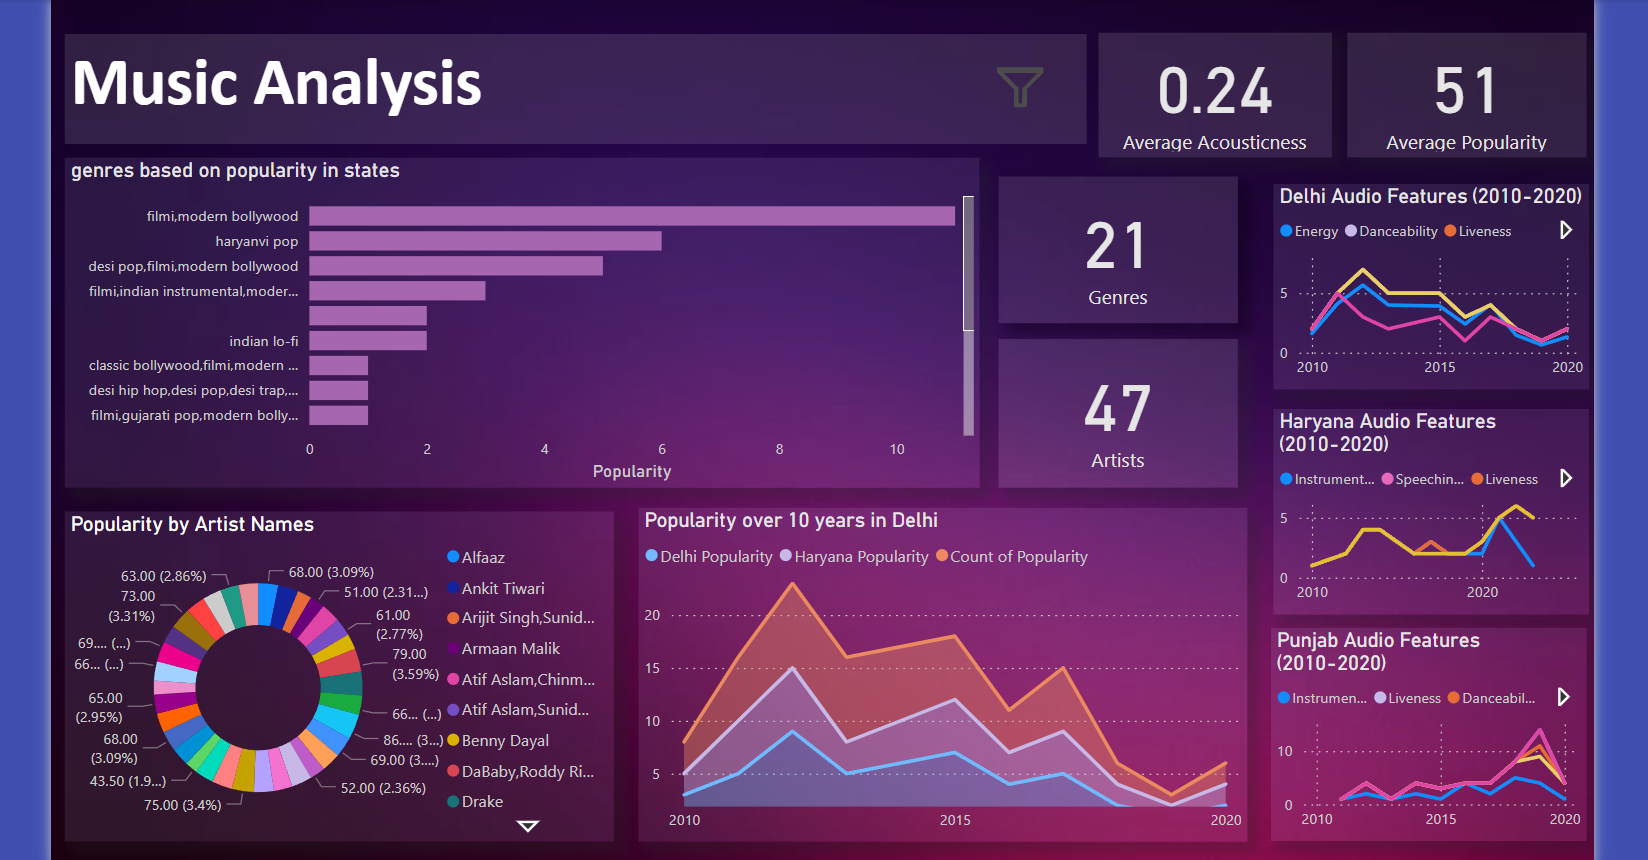

This screenshot's page, from the dashboard's own definition file:
{"tool":"powerbi","page":{"name":"Page 1","canvas":[1280,720],"ordinal":0},"visuals":[{"type":"stackedAreaChart","title":"Popularity over 10 years in Delhi","fields":{"Category":["Delhi.date"],"Y":["Haryana.Popularity","Delhi.Popularity","Punjab.Popularity"]},"box":[486.7,421.7,505,276.7],"z":0},{"type":"slicer","fields":{"Values":["Delhi.date"]},"box":[773.3,38.3,60,70],"z":1000},{"type":"lineChart","title":"Delhi Audio Features (2010-2020)","fields":{"Category":["Delhi.date"],"Y":["Delhi.Energy","Delhi.Danceability","Delhi.Liveness","Delhi.Speechiness","Delhi.Instrumentalness"]},"box":[1013.3,153.3,261.7,170],"z":2000},{"type":"lineChart","title":"Haryana Audio Features (2010-2020)","fields":{"Category":["Haryana.date"],"Y":["Haryana.Instrumentalness","Haryana.Speechiness","Haryana.Liveness","Haryana.Danceability"]},"box":[1013.3,340,261.7,170],"z":3000},{"type":"lineChart","title":"Punjab Audio Features (2010-2020)","fields":{"Y":["Punjab.Instrumentalness","Punjab.Liveness","Punjab.Danceability","Punjab.Energy","Punjab.Speechiness"],"Category":["Punjab.date"]},"box":[1011.7,521.7,261.7,176.7],"z":4000},{"type":"slicer","fields":{"Values":["Punjab.date"]},"box":[771.7,38.3,65,70],"z":5000},{"type":"card","fields":{"Values":["Punjab.Genres"]},"box":[785,146.7,198.3,121.7],"z":6000},{"type":"card","fields":{"Values":["Punjab.Popularity"]},"box":[1075,28.3,198.3,103.3],"z":7000},{"type":"barChart","title":"genres based on popularity in states","fields":{"Y":["Delhi.Popularity"],"Category":["Delhi.Genres","Haryana.Genres","Punjab.Genres"]},"box":[11.7,131.7,758.3,273.3],"z":8000},{"type":"slicer","fields":{"Values":["Delhi.Popularity"]},"box":[770,38.3,66.7,70],"z":9000},{"type":"donutChart","fields":{"Y":["Delhi.Popularity"],"Series":["Delhi.Artist Name(s)"]},"box":[11.7,425,455,273.3],"z":10000},{"type":"card","fields":{"Values":["Punjab.Acousticness"]},"box":[868.3,28.3,193.3,103.3],"z":11000},{"type":"card","fields":{"Values":["Punjab.Artist Name(s)"]},"box":[785,281.7,198.3,123.3],"z":12000},{"type":"textbox","box":[11.4,28.6,847.1,91.4],"z":13000}]}

Visuals, with their boxes on the page's 1280x720 design canvas (x1, y1, x2, y2). These are canvas units, not pixel positions in the 1648x860 screenshot, which may show the page scaled, cropped or inside an application window:
"Popularity over 10 years in Delhi" stackedAreaChart: 487 422 992 698
slicer - Delhi.date: 773 38 833 108
"Delhi Audio Features (2010-2020)" lineChart: 1013 153 1275 323
"Haryana Audio Features (2010-2020)" lineChart: 1013 340 1275 510
"Punjab Audio Features (2010-2020)" lineChart: 1012 522 1273 698
slicer - Punjab.date: 772 38 837 108
card - Punjab.Genres: 785 147 983 268
card - Punjab.Popularity: 1075 28 1273 132
"genres based on popularity in states" barChart: 12 132 770 405
slicer - Delhi.Popularity: 770 38 837 108
donutChart - Delhi.Popularity x Delhi.Artist Name(s): 12 425 467 698
card - Punjab.Acousticness: 868 28 1062 132
card - Punjab.Artist Name(s): 785 282 983 405
textbox: 11 29 858 120
